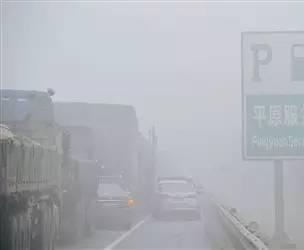bus: (53, 98, 158, 196), (1, 87, 64, 250)
car: (153, 175, 200, 220), (90, 182, 136, 220)
